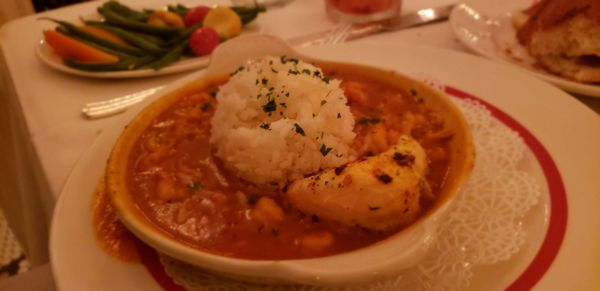pizza: (325, 1, 404, 38)
sushi: (102, 46, 476, 285)
